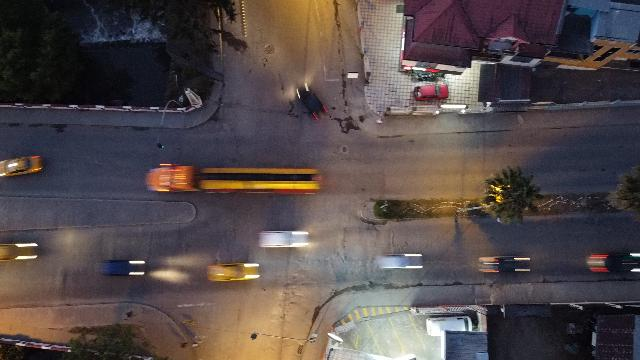Vehiculo: (414, 84, 448, 100)
